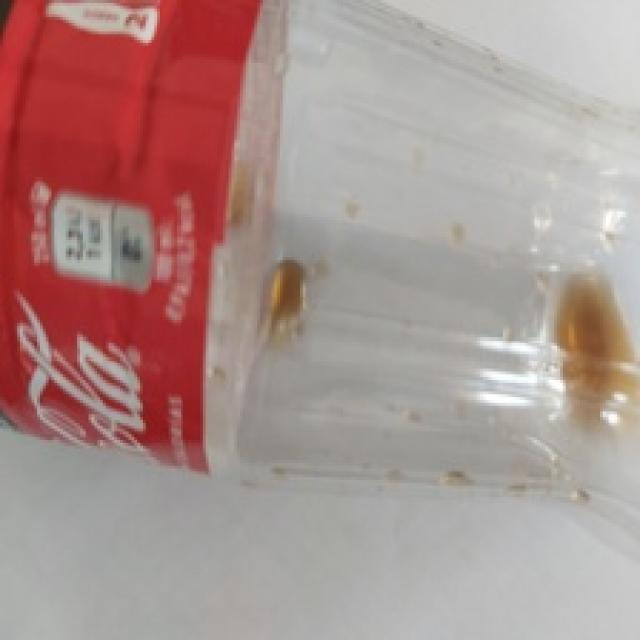plastic_bottle: (0, 0, 640, 556)
